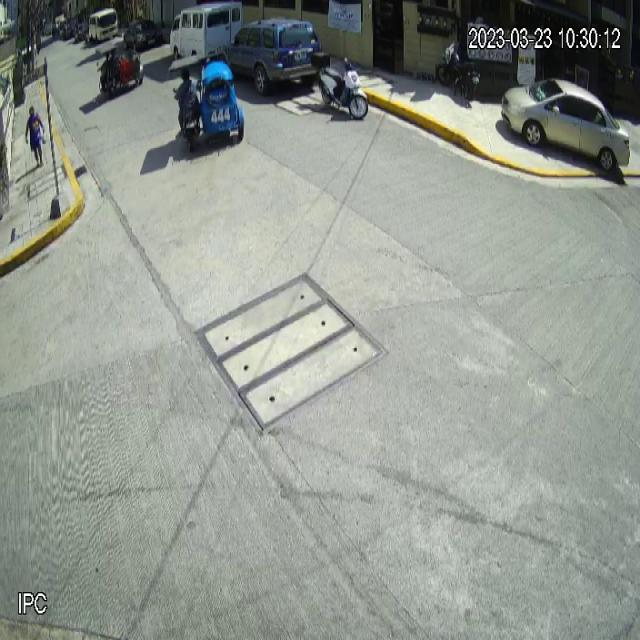Car: (500, 76, 631, 174), (229, 16, 320, 96)
Motorcycle: (311, 51, 369, 121)
Tricycle: (168, 54, 245, 152)
Van: (169, 0, 244, 59)
